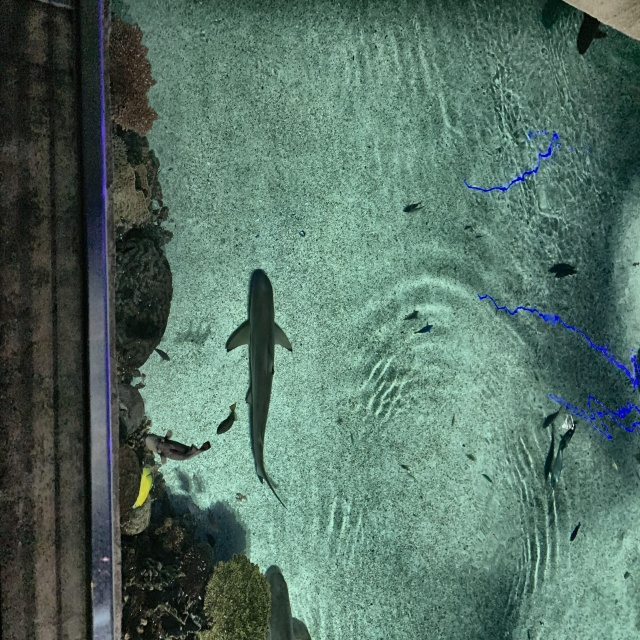fish: (143, 428, 211, 466), (215, 401, 238, 437), (557, 419, 579, 452), (550, 448, 564, 490), (542, 406, 562, 429), (552, 267, 578, 280), (413, 321, 434, 336), (152, 347, 171, 363), (569, 521, 582, 542), (407, 203, 426, 216), (481, 473, 493, 484), (462, 224, 473, 232), (451, 412, 455, 427)
shark: (224, 267, 295, 515)
